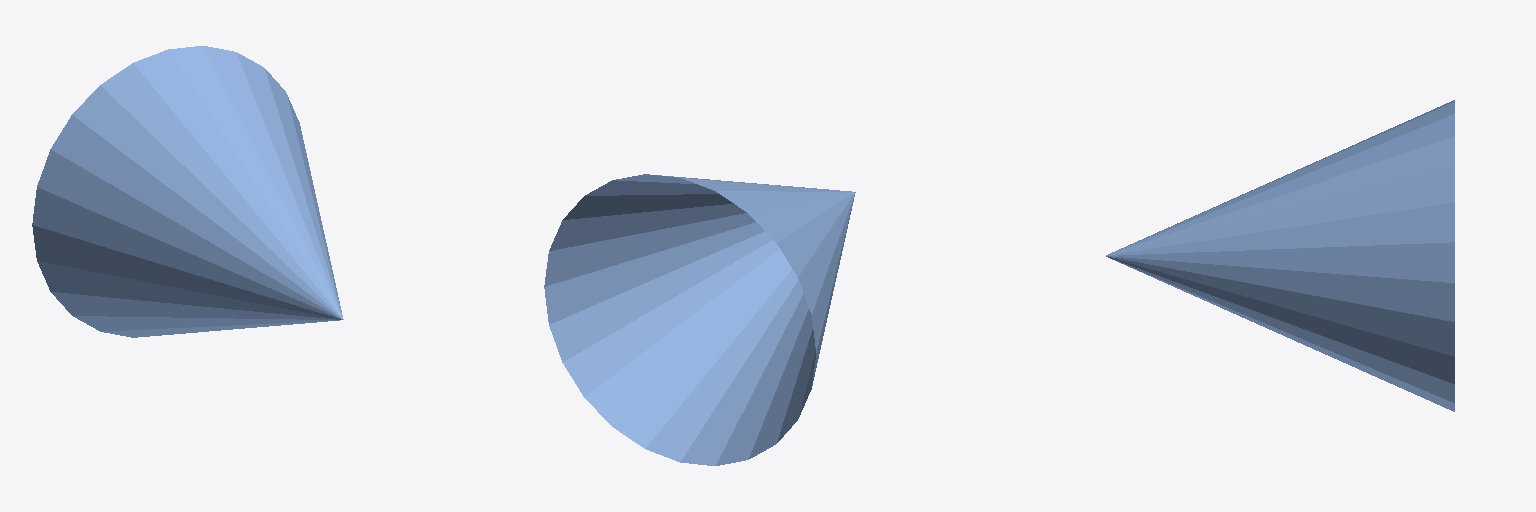
File: lightCone.obj
3 renders of one model, left to right at view 1: azimuth 30°, elevation 25°; view 2: azimuth 150°, elevation 25°; view 3: azimuth 270°, elevation 25°, orthographic.
Visible parts, largest first — view 1: Cone001; view 2: Cone001; view 3: Cone001.
Part boxes in pixels (x1,y1,x2,y2): Cone001: (32, 46, 343, 337); Cone001: (544, 174, 855, 465); Cone001: (1106, 100, 1454, 411).
Size of the model in its own units: 36.26 by 36.26 by 40.49.